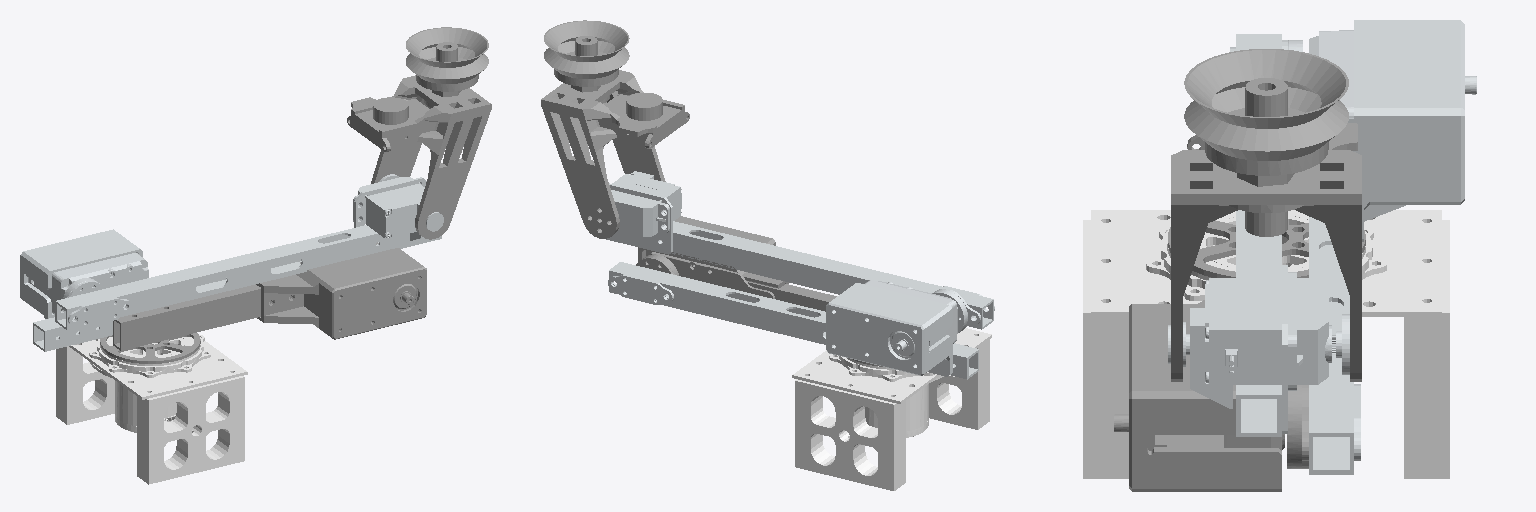
robot.urdf — arm:
<?xml version="1.0" encoding="utf-8"?>
<robot name="arm">
  <link name="arm_base_link">
    <inertial>
      <origin xyz="1.50365951713874E-06 -4.94494921962282E-06 0.0244058465472217" rpy="0 0 0"/>
      <mass value="0.527622512880337"/>
      <inertia ixx="0.000218575753374328" ixy="4.69213448074603E-09" ixz="-4.18816340000152E-10" iyy="0.000384523336740936" iyz="-5.26948374728239E-08" izz="0.000334676268216073"/>
    </inertial>
    <visual>
      <origin xyz="0 0 0" rpy="0 0 0"/>
      <geometry>
        <mesh filename="package://arm/model/arm_base_link.STL"/>
      </geometry>
      <material name="">
        <color rgba="1 1 1 1"/>
      </material>
    </visual>
    <collision>
      <origin xyz="0 0 0" rpy="0 0 0"/>
      <geometry>
        <mesh filename="package://arm/model/arm_base_link.STL"/>
      </geometry>
    </collision>
  </link>
  <link name="joint1">
    <inertial>
      <origin xyz="0.111491546379565 -0.00921782286659382 0.00946444764092576" rpy="0 0 0"/>
      <mass value="0.127701870541598"/>
      <inertia ixx="2.56552204753449E-05" ixy="-3.65617633283866E-06" ixz="4.35440557860896E-10" iyy="0.000111093153322689" iyz="-1.64847837028943E-09" izz="0.000110793291958093"/>
    </inertial>
    <visual>
      <origin xyz="0 0 0" rpy="0 0 0"/>
      <geometry>
        <mesh filename="package://arm/model/joint1.STL"/>
      </geometry>
      <material name="">
        <color rgba="0.698039215686274 0.698039215686274 0.698039215686274 1"/>
      </material>
    </visual>
    <collision>
      <origin xyz="0 0 0" rpy="0 0 0"/>
      <geometry>
        <mesh filename="package://arm/model/joint1.STL"/>
      </geometry>
    </collision>
  </link>
  <joint name="joint1" type="revolute">
    <origin xyz="0 0 0.0565000000000001" rpy="0 0 0"/>
    <parent link="arm_base_link"/>
    <child link="joint1"/>
    <axis xyz="0 0 -1"/>
    <limit lower="-3.14" upper="3.14" effort="10" velocity="10"/>
  </joint>
  <link name="joint2">
    <inertial>
      <origin xyz="0.168028101543232 0.0182556586005832 0.0251068594546263" rpy="0 0 0"/>
      <mass value="0.245916230331252"/>
      <inertia ixx="2.98522240969674E-05" ixy="-3.09664955755619E-07" ixz="1.70474424253731E-08" iyy="0.000379481085173118" iyz="1.35979133017962E-06" izz="0.00038787395764412"/>
    </inertial>
    <visual>
      <origin xyz="0 0 0" rpy="0 0 0"/>
      <geometry>
        <mesh filename="package://arm/model/joint2.STL"/>
      </geometry>
      <material name="">
        <color rgba="0.89804 0.91765 0.92941 1"/>
      </material>
    </visual>
    <collision>
      <origin xyz="0 0 0" rpy="0 0 0"/>
      <geometry>
        <mesh filename="package://arm/model/joint2.STL"/>
      </geometry>
    </collision>
  </link>
  <joint name="joint2" type="revolute">
    <origin xyz="0.165000000000001 0.00670000000000074 0.0100000000000004" rpy="1.5707963267949 0 -3.14159265358979"/>
    <parent link="joint1"/>
    <child link="joint2"/>
    <axis xyz="0 0 1"/>
    <limit lower="-3.14" upper="3.14" effort="10" velocity="10"/>
  </joint>
  <link name="joint3">
    <inertial>
      <origin xyz="0.174351182889805 0.00915745461193521 0.0061335481573375" rpy="0 0 0"/>
      <mass value="0.134998289963193"/>
      <inertia ixx="1.52310635607631E-05" ixy="-6.62130137973086E-07" ixz="2.90911429692824E-08" iyy="0.000391198465429056" iyz="5.75199456964324E-08" izz="0.000385693544536659"/>
    </inertial>
    <visual>
      <origin xyz="0 0 0" rpy="0 0 0"/>
      <geometry>
        <mesh filename="package://arm/model/joint3.STL"/>
      </geometry>
      <material name="">
        <color rgba="0.89804 0.91765 0.92941 1"/>
      </material>
    </visual>
    <collision>
      <origin xyz="0 0 0" rpy="0 0 0"/>
      <geometry>
        <mesh filename="package://arm/model/joint3.STL"/>
      </geometry>
    </collision>
  </link>
  <joint name="joint3" type="revolute">
    <origin xyz="0.209 0.0242999999999992 -0.00169999999999987" rpy="-3.14159265358979 0 3.14159265358979"/>
    <parent link="joint2"/>
    <child link="joint3"/>
    <axis xyz="0 0 1"/>
    <limit lower="-3.14" upper="3.14" effort="10" velocity="10"/>
  </joint>
  <link name="joint4">
    <inertial>
      <origin xyz="0.0562913026552003 -0.00205799293829059 -0.0256803932493143" rpy="0 0 0"/>
      <mass value="0.0613085781646441"/>
      <inertia ixx="2.85361112932777E-05" ixy="3.35554042540279E-06" ixz="-2.19551725379485E-07" iyy="3.42301149034482E-05" iyz="-4.59736786170188E-07" izz="2.42835526687419E-05"/>
    </inertial>
    <visual>
      <origin xyz="0 0 0" rpy="0 0 0"/>
      <geometry>
        <mesh filename="package://arm/model/joint4.STL"/>
      </geometry>
      <material name="">
        <color rgba="0.69804 0.69804 0.69804 1"/>
      </material>
    </visual>
    <collision>
      <origin xyz="0 0 0" rpy="0 0 0"/>
      <geometry>
        <mesh filename="package://arm/model/joint4.STL"/>
      </geometry>
    </collision>
  </link>
  <joint name="joint4" type="revolute">
    <origin xyz="0.237999999999993 0.0174999999999935 -0.0209999999999999" rpy="-3.14159265358979 0 1.5707963267949"/>
    <parent link="joint3"/>
    <child link="joint4"/>
    <axis xyz="0 0 1"/>
    <limit lower="-3.14" upper="3.14" effort="10" velocity="10"/>
  </joint>
  <link name="joint5">
    <inertial>
      <origin xyz="-0.0213546888236643 2.77555756156289E-17 -2.77555756156289E-17" rpy="0 0 0"/>
      <mass value="0.0986878737710681"/>
      <inertia ixx="1.55691033654856E-05" ixy="-3.1602976348276E-21" ixz="6.47179499192718E-21" iyy="2.00162772748724E-05" iyz="0" izz="2.00162772748724E-05"/>
    </inertial>
    <visual>
      <origin xyz="0 0 0" rpy="0 0 0"/>
      <geometry>
        <mesh filename="package://arm/model/joint5.STL"/>
      </geometry>
      <material name="">
        <color rgba="0.69804 0.69804 0.69804 1"/>
      </material>
    </visual>
    <collision>
      <origin xyz="0 0 0" rpy="0 0 0"/>
      <geometry>
        <mesh filename="package://arm/model/joint5.STL"/>
      </geometry>
    </collision>
  </link>
  <joint name="joint5" type="fixed">
    <origin xyz="0.1058 0.0274999999999999 -0.0259999999999996" rpy="1.5707963267949 0 0"/>
    <parent link="joint4"/>
    <child link="joint5"/>
    <axis xyz="0.720066850328186 -0.481503731058444 0.499657770914496"/>
  </joint>
</robot>

--- Render facts (derived) ---
Views: 3 orthographic renders of the robot side by side, from view 1: azimuth 30°, elevation 25°; view 2: azimuth 150°, elevation 25°; view 3: azimuth 270°, elevation 25°.
Robot: arm — 6 links, 5 joints (4 revolute, 1 fixed); root link arm_base_link; default pose: every joint at zero.
Visible links, largest first — view 1: arm_base_link, joint1, joint3, joint4, joint2, joint5; view 2: joint2, arm_base_link, joint4, joint3, joint5, joint1; view 3: arm_base_link, joint2, joint3, joint1, joint5, joint4.
Boxes of the visible links, x1,y1,x2,y2 form: arm_base_link: [56, 335, 247, 484]; joint1: [100, 242, 426, 363]; joint3: [55, 174, 443, 329]; joint4: [347, 75, 491, 239]; joint2: [20, 229, 148, 351]; joint5: [406, 27, 488, 96]; joint2: [608, 262, 978, 379]; arm_base_link: [792, 328, 991, 490]; joint4: [541, 70, 689, 238]; joint3: [606, 171, 994, 330]; joint5: [544, 20, 629, 92]; joint1: [636, 216, 882, 366]; arm_base_link: [1083, 210, 1449, 478]; joint2: [1288, 20, 1476, 474]; joint3: [1168, 34, 1349, 436]; joint1: [1114, 220, 1365, 491]; joint5: [1184, 49, 1348, 236]; joint4: [1171, 123, 1361, 381].
Bounding box of the posed robot: 0.3195 × 0.1287 × 0.2293 m (x, y, z).
6 mesh visuals loaded from 6 distinct referenced files (6 binary STL).
